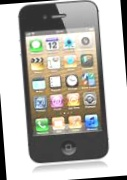iphone: (24, 2, 105, 162)
